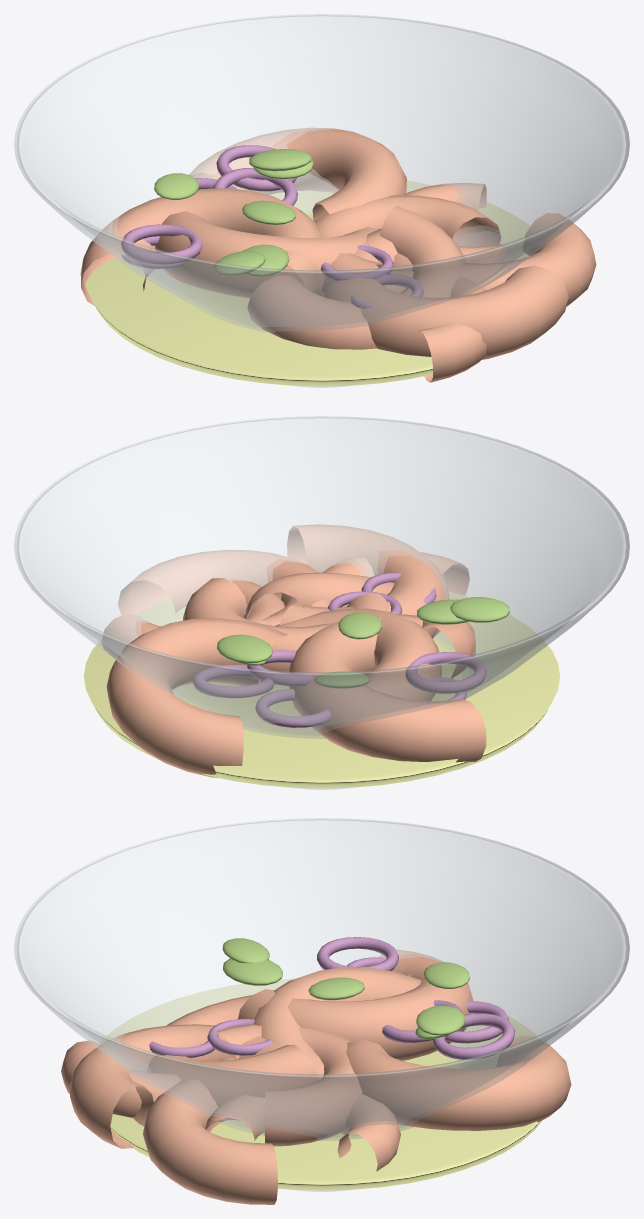
Rendered from ceviche-camarones.glb.
3 views of the same model, one above another, from view 1: azimuth 30°, elevation 25°; view 2: azimuth 150°, elevation 25°; view 3: azimuth 270°, elevation 25° (orthographic).
Bounding box in the file's own units: 0.15 × 0.055 × 0.15.
